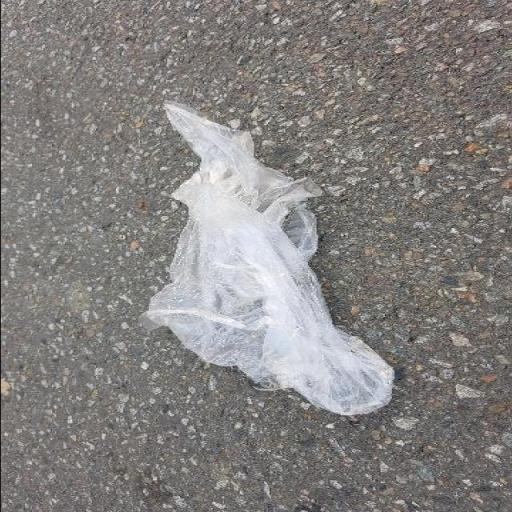plastic-bag: (130, 98, 392, 416)
